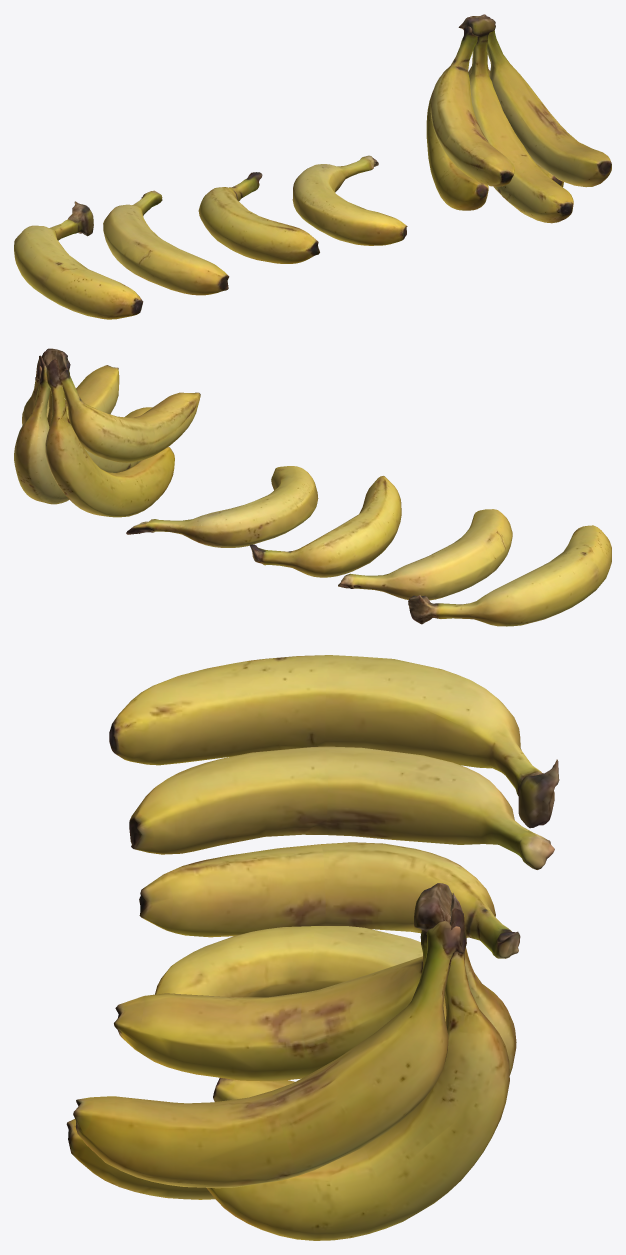
Rendered from bananas.f43a297f.glb.
3 views of the same model, one above another, from view 1: azimuth 30°, elevation 25°; view 2: azimuth 150°, elevation 25°; view 3: azimuth 270°, elevation 25° (orthographic). The views are drawn at different scales.
Visible parts, largest first — view 1: bananas_bunch, bananas_d, bananas_c, bananas_a, bananas_b; view 2: bananas_bunch, bananas_d, bananas_c, bananas_a, bananas_b; view 3: bananas_bunch, bananas_d, bananas_c, bananas_b, bananas_a.
Boxes of the visible parts, left/top/right/bottom form: bananas_bunch: left=426, top=14, right=611, bottom=223; bananas_d: left=14, top=201, right=143, bottom=319; bananas_c: left=103, top=190, right=229, bottom=295; bananas_a: left=292, top=155, right=407, bottom=245; bananas_b: left=198, top=172, right=319, bottom=263; bananas_bunch: left=14, top=348, right=200, bottom=517; bananas_d: left=408, top=525, right=611, bottom=626; bananas_c: left=338, top=509, right=512, bottom=600; bananas_a: left=126, top=466, right=318, bottom=547; bananas_b: left=249, top=476, right=401, bottom=577; bananas_bunch: left=66, top=883, right=516, bottom=1240; bananas_d: left=109, top=655, right=559, bottom=828; bananas_c: left=129, top=746, right=554, bottom=869; bananas_b: left=139, top=842, right=520, bottom=958; bananas_a: left=155, top=926, right=422, bottom=997.
Size of the model in its own units: 0.95 by 0.2829 by 0.3863.
1 material, 1 textured.
